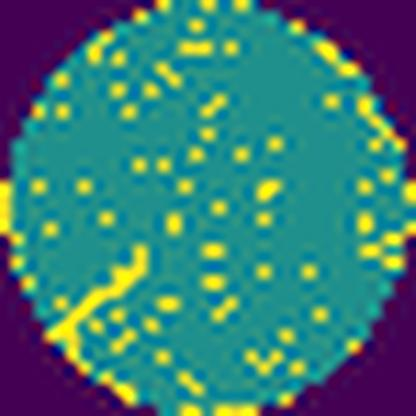Scratch: (42, 241, 154, 378)
